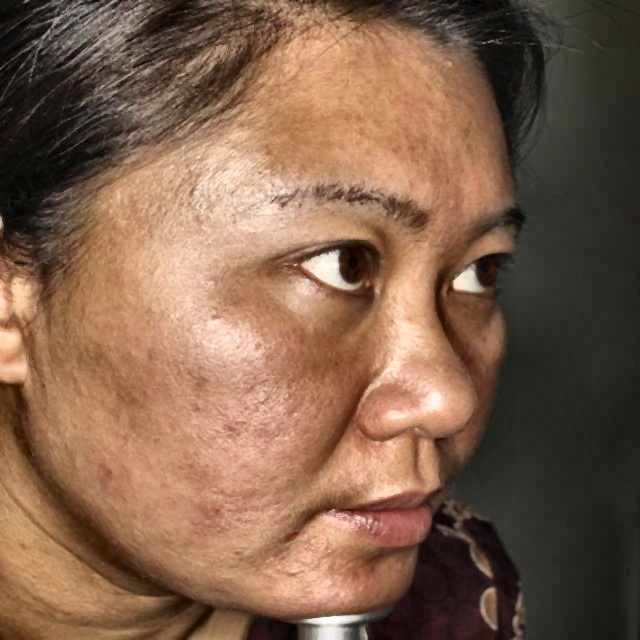comedone: (93, 459, 121, 485)
